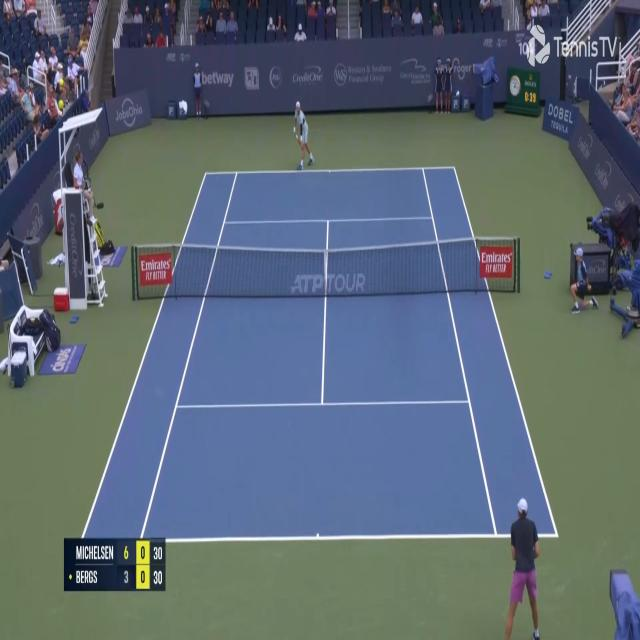tennis-player: (503, 494, 544, 640), (291, 96, 316, 171)
